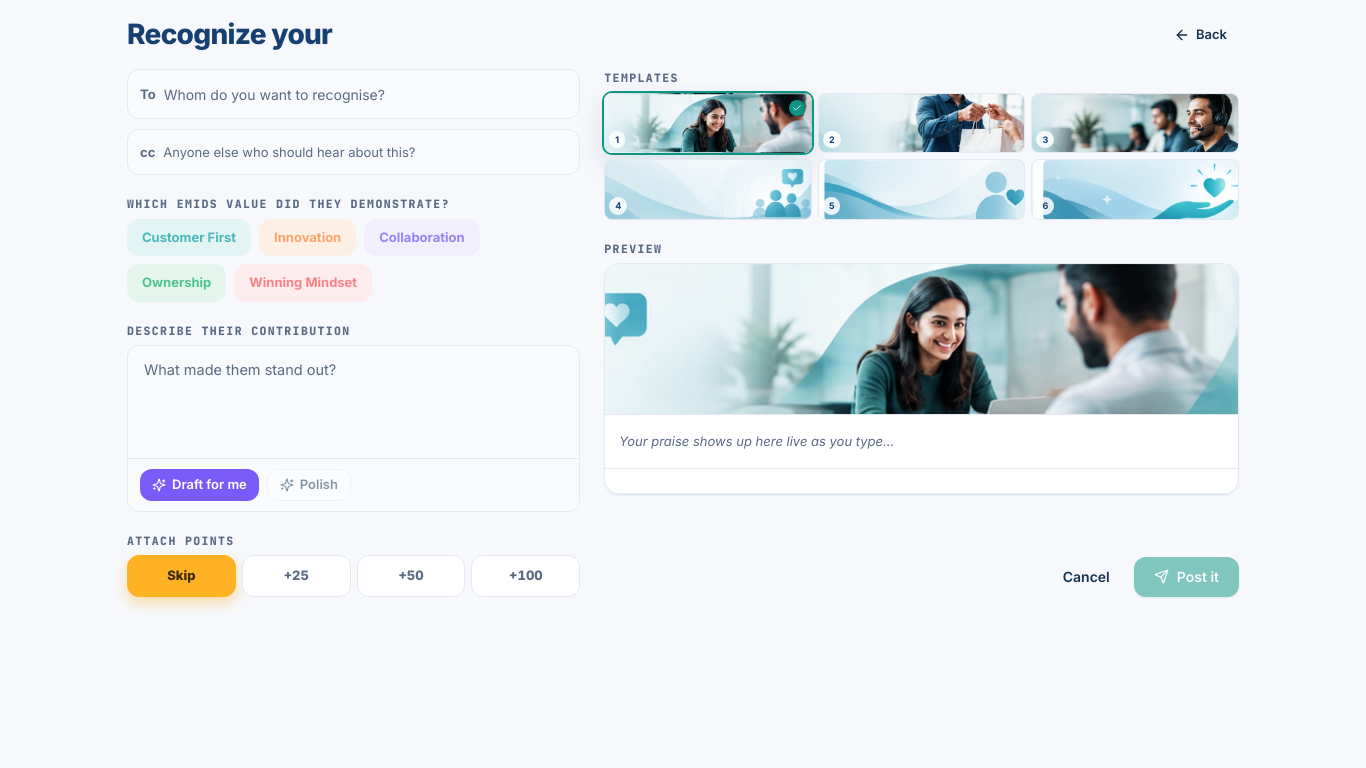
Test: Composer page › accepts a recipient typed as an email address that is not in the directory
Type "tony.stark@emids.com" into the field with id "composer-to-input".
click(365, 94); type("tony.stark@emids.com")  # box [164,78,567,110]
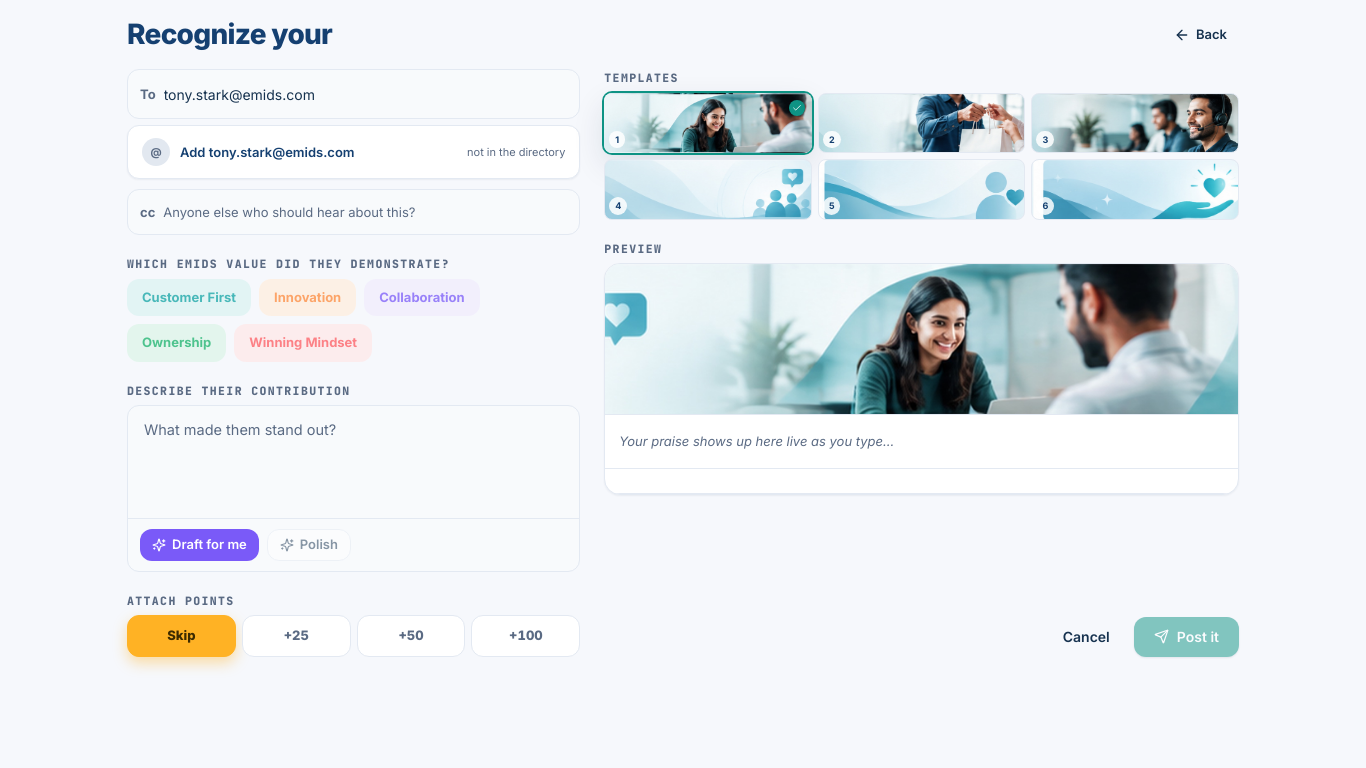
Click the text "Add tony.stark@emids.com".
click(267, 152)  # box [180,143,355,162]
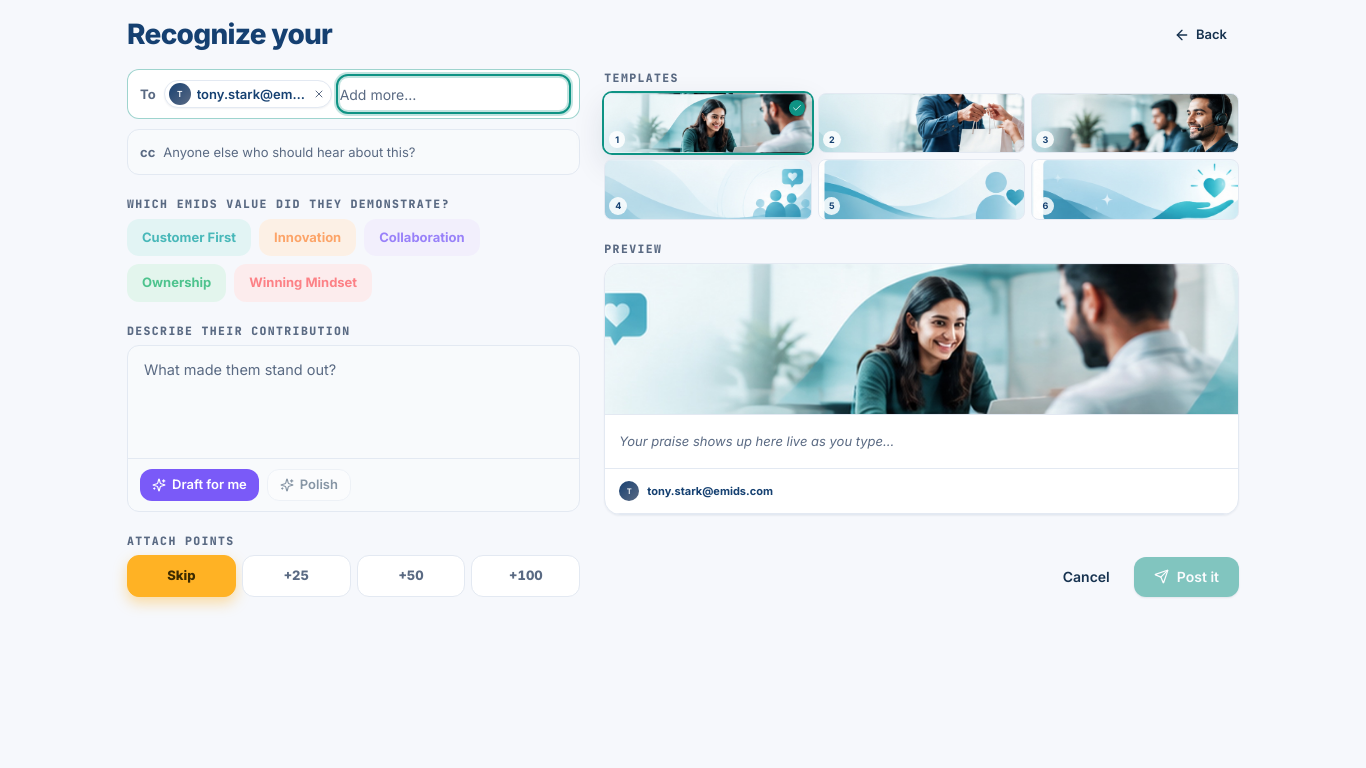
Result: the button "tony.stark@emids.com" is shown at [197,85,307,104]
